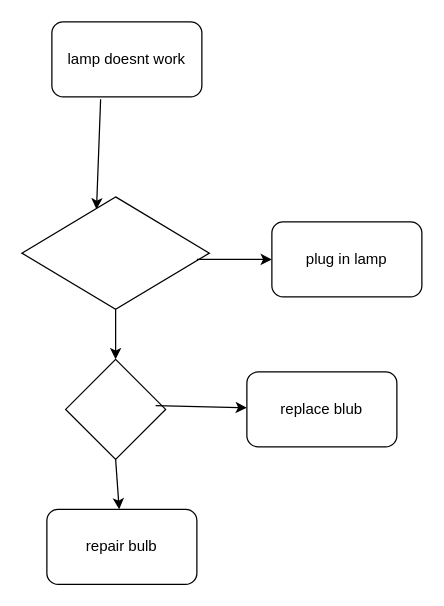
This 444x606 diagram has some shape labels left out. Here are the shapes that lost their labels. From the top down, the box of each, then its label:
(21, 196, 209, 309): lamp plugged in?
(64, 358, 166, 459): blub brunt out?
